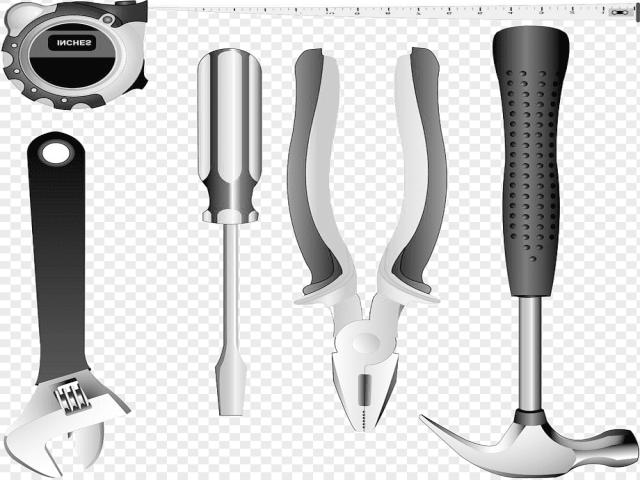Adjustable spanner: (4, 132, 130, 477)
Hammer: (419, 26, 638, 477)
Pliers: (288, 48, 447, 432)
Screwdriver: (198, 49, 262, 416)
Tape measure: (3, 0, 640, 110)
